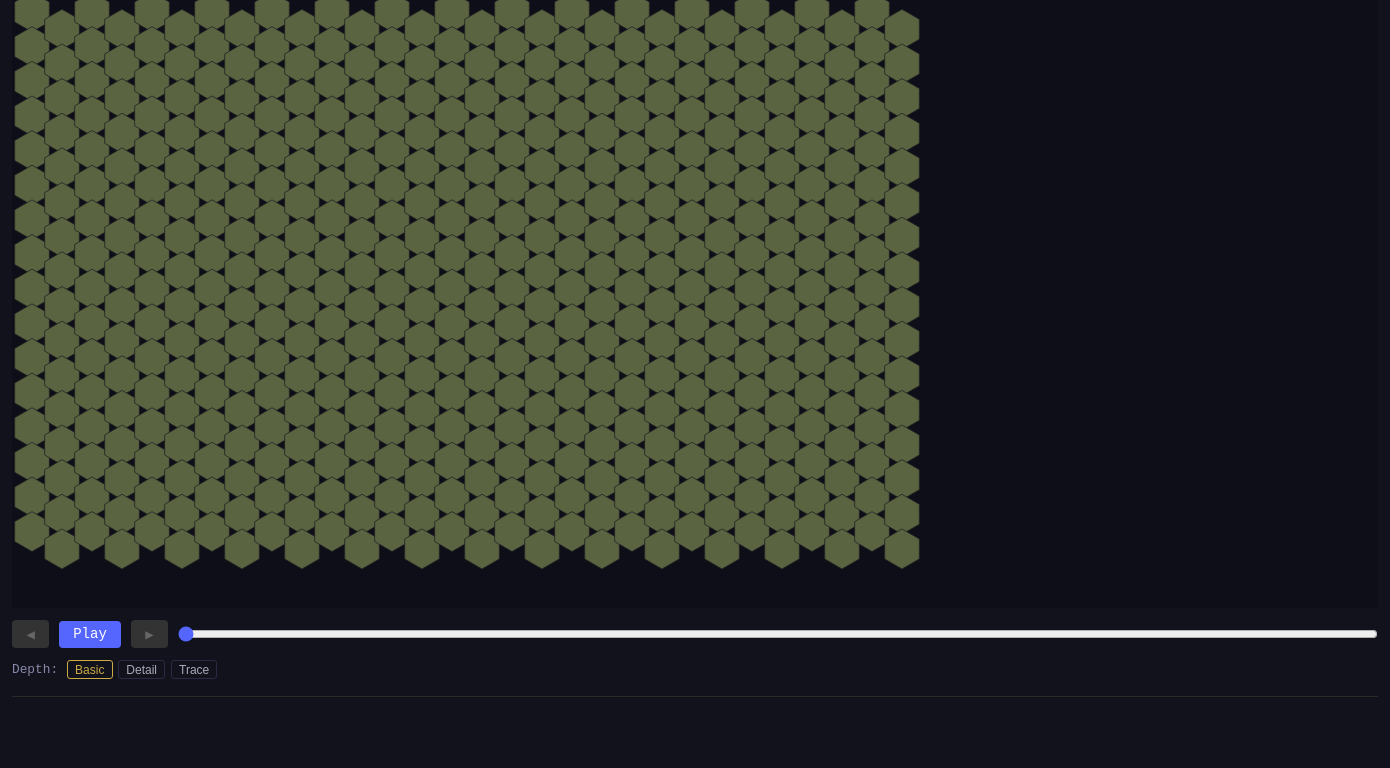
the replay depth control › at Trace shows everything
The width and height of the screenshot is (1390, 768).
(page scrolled)
Click the button with test id "replay-depth-trace" at x=194, y=670, box [171,660,217,679]
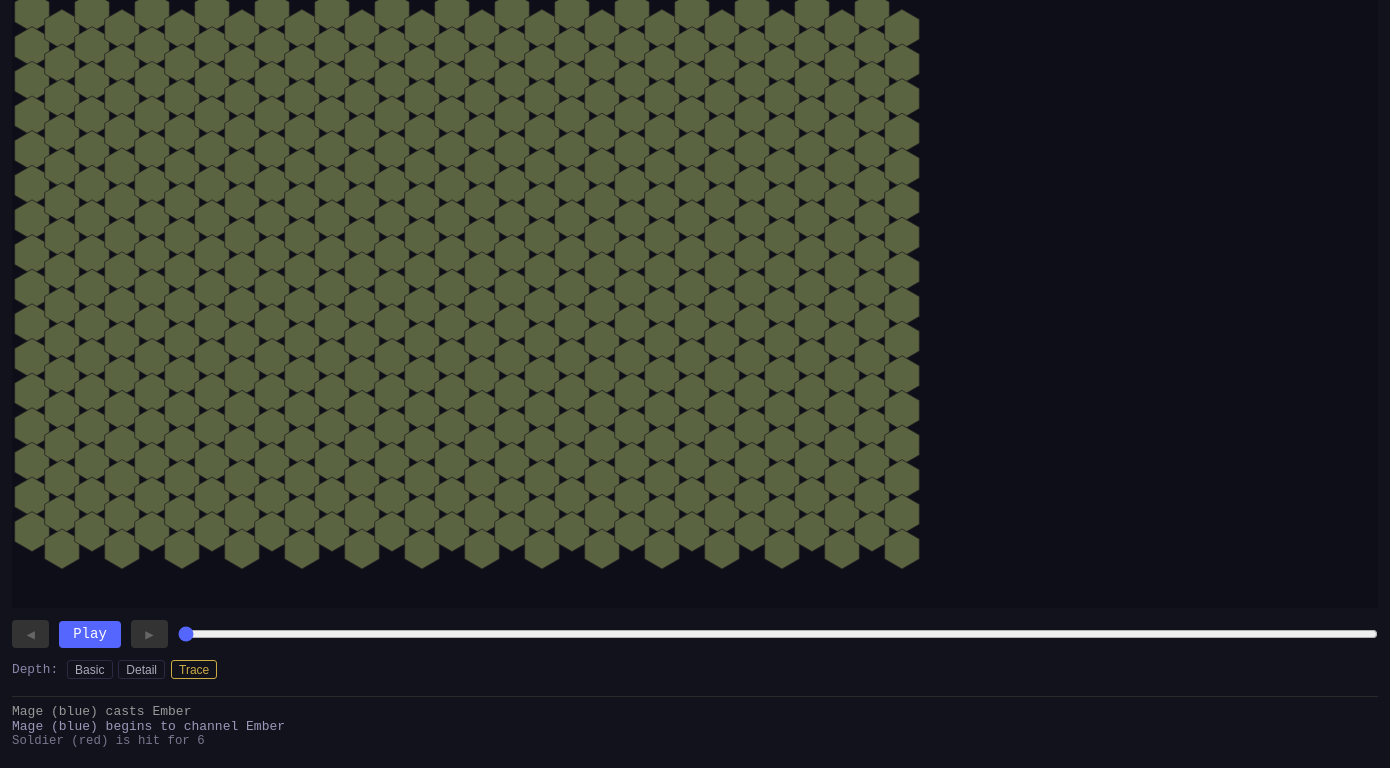
expect the element with test id "replay-log" shows "casts Ember": met, box [12,704,191,719]
expect the element with test id "replay-log" shows "begins to channel": met, box [12,719,285,734]
expect the element with test id "replay-log" shows "is hit for": met, box [12,734,205,748]
